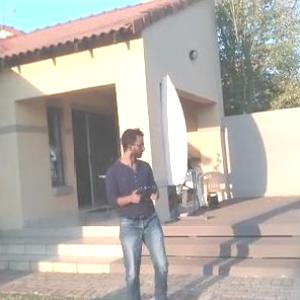follow: (105, 126, 179, 299)
